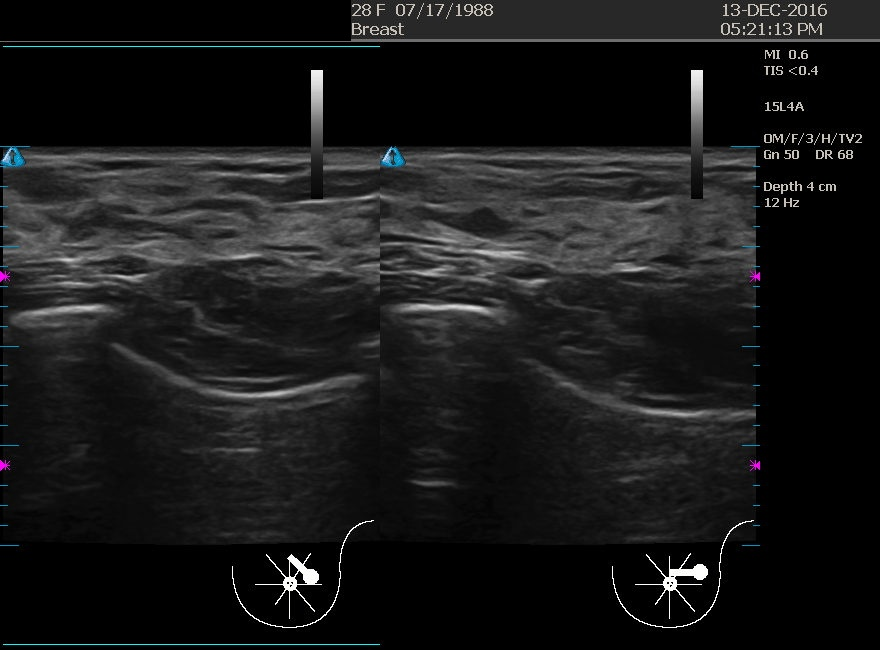BIRADS_2: (386, 193, 586, 395), (32, 151, 232, 351)
